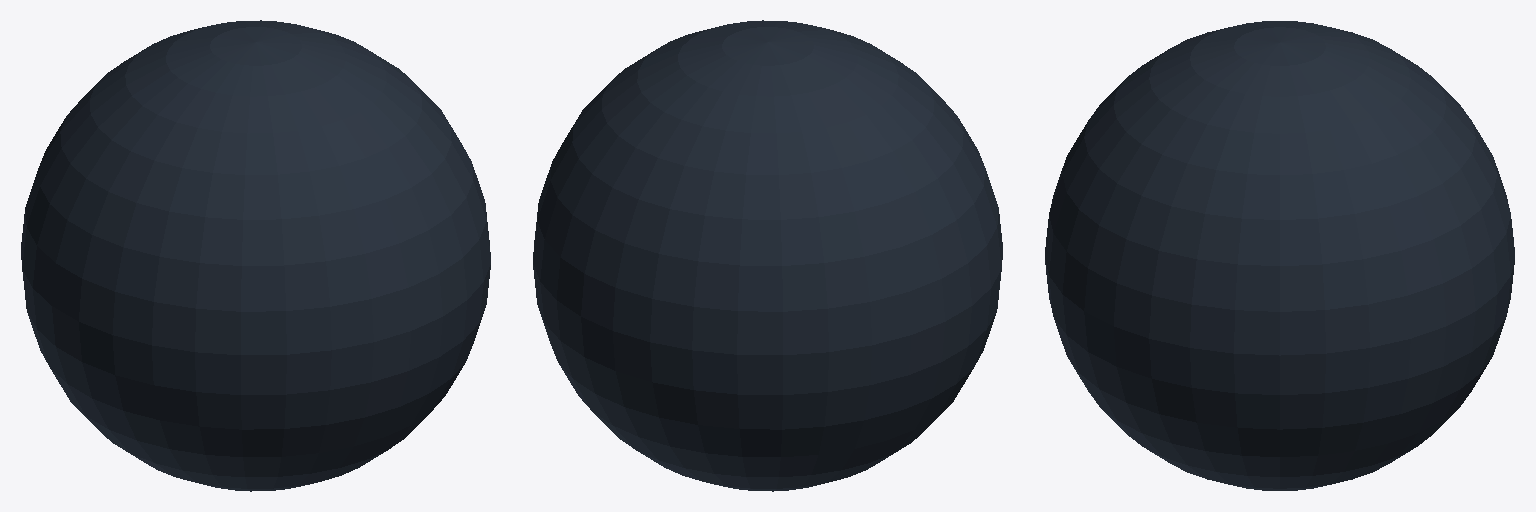
The robot description file, URDF, robot "ball":
<?xml version="1.0"?>


<robot name="ball" xmlns:xacro="http://www.ros.org/wiki/xacro">


  <material name="blue">
    <color rgba="0.203125 0.23828125 0.28515625 1.0"/>
  </material>

  <gazebo reference="ball">
    <material>Gazebo/Blue</material>
  </gazebo>


   <link name="ball">
    <!-- pose and inertial -->
    <pose>0 0 0.1 0 0 0</pose>

    <!-- body -->
    <!-- caster front -->
    <collision name="ball_coll">
      <origin rpy=" 0 0 0" xyz="0 0 0"/>
      <geometry>
        <sphere radius="0.05"/>
      </geometry>
    </collision>
    <inertial>
      <mass value="5"/>
      <origin rpy="0 0 0" xyz="0 0 0.1"/>
      <inertia ixx="0" ixy="0" ixz="0" iyy="0" iyz="0" izz="0"/>
    </inertial>
    <visual name="ball_vis">
      <origin rpy=" 0 0 0" xyz="0 0 0"/>
      <geometry>
        <sphere radius="0.1"/>
      </geometry>
      <material name="blue"/>
    </visual>

  </link>
  
</robot>

--- Render facts (derived) ---
Views: 3 orthographic renders of the robot side by side, from view 1: azimuth 30°, elevation 25°; view 2: azimuth 150°, elevation 25°; view 3: azimuth 270°, elevation 25°.
Model ball with 1 links and 0 joints (none), rooted at ball, posed every joint at zero.
Links seen in each view (by area): view 1: ball; view 2: ball; view 3: ball.
Link boxes in pixels (bbox=[...]): ball: bbox=[21, 20, 490, 491]; ball: bbox=[533, 20, 1002, 491]; ball: bbox=[1045, 21, 1514, 490].
Size in the robot's own frame: 0.2 by 0.2 by 0.2 metres.
Geometry: primitives only (box / cylinder / sphere), no mesh files.